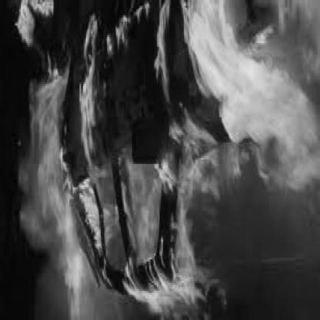Fire: (6, 5, 316, 313)
